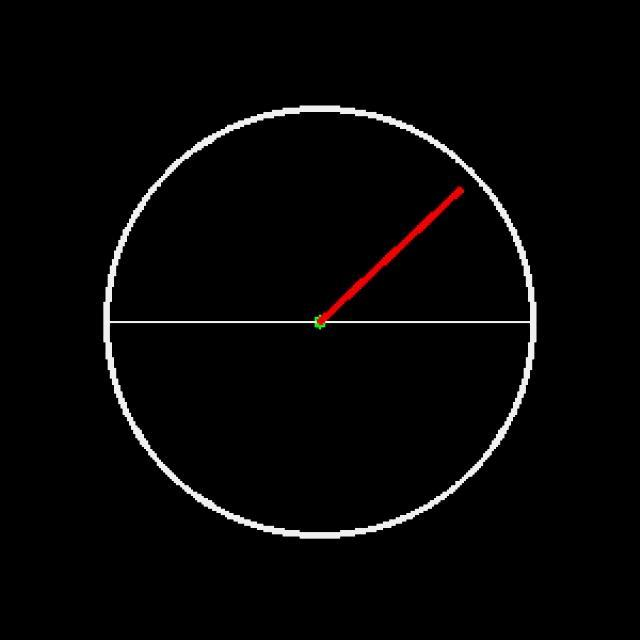Needle_Tip: (440, 171, 482, 217)
Needle_base: (283, 298, 356, 360)
